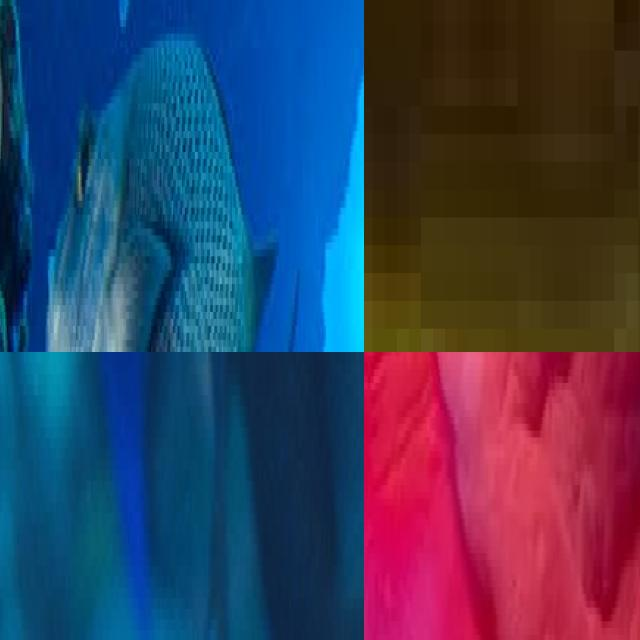fish: (0, 0, 364, 352), (364, 0, 640, 352), (397, 352, 640, 640)
